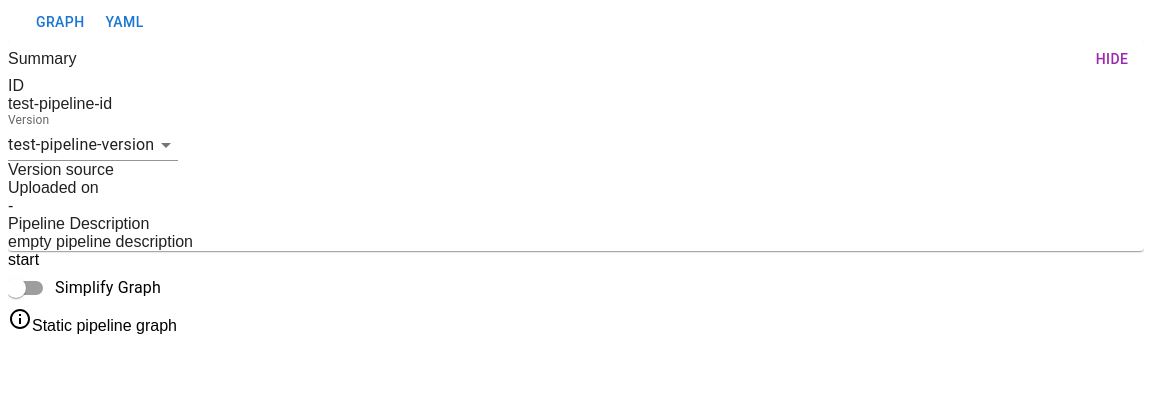
Test case: PipelineDetailsV1 › shows clicked node info in the side panel if it is in the graph
This screenshot has width=1152, height=405.
Step 1. Click the text "start" → point(24, 260), box [8, 251, 39, 268]
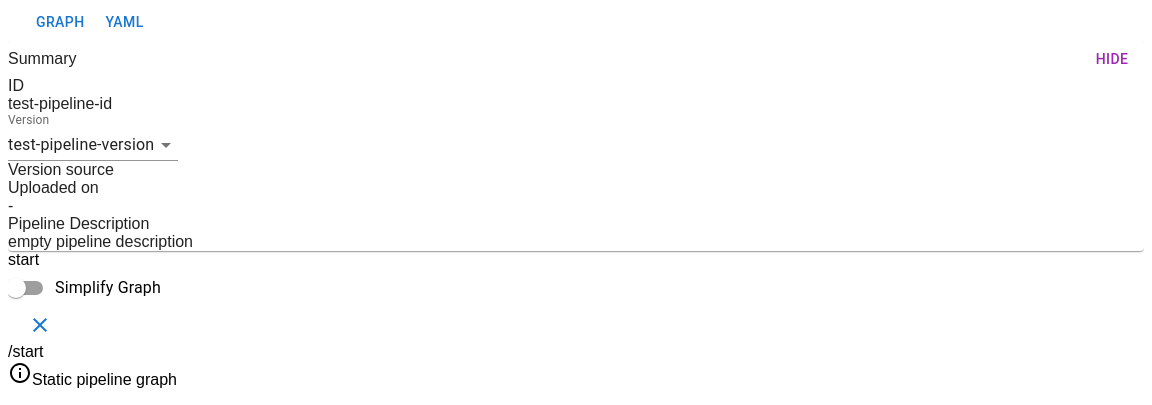
Expected: the text "/start" is shown, [8, 343, 44, 360]
